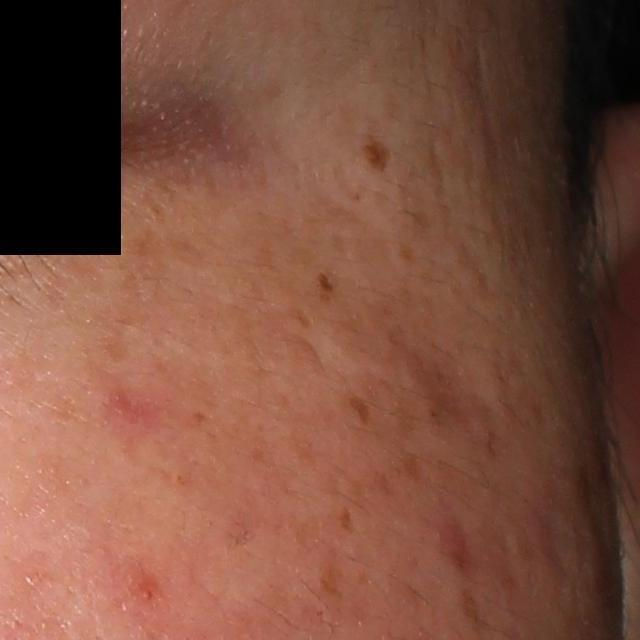melasma: (346, 396, 374, 427), (282, 306, 313, 331), (394, 240, 419, 267), (315, 270, 335, 295), (146, 197, 163, 222)
